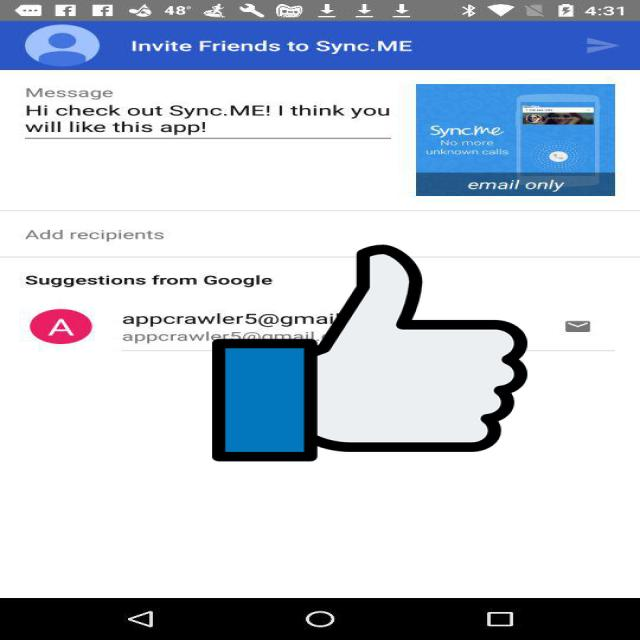privacy zuckering: (212, 240, 528, 466)
